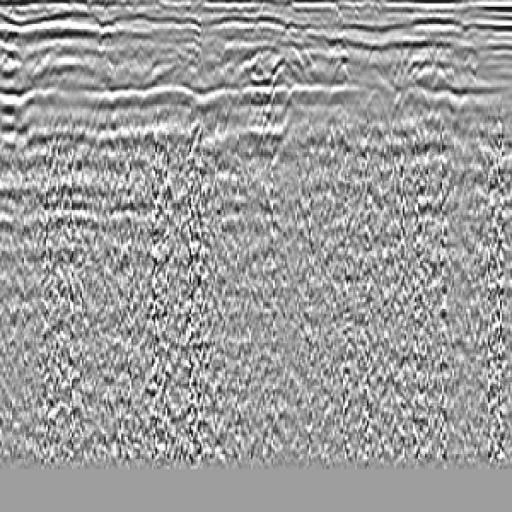non-metallic: (230, 59, 312, 257)
